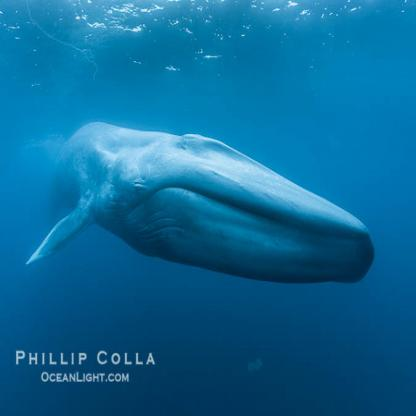blue_whale: (18, 79, 390, 340)
